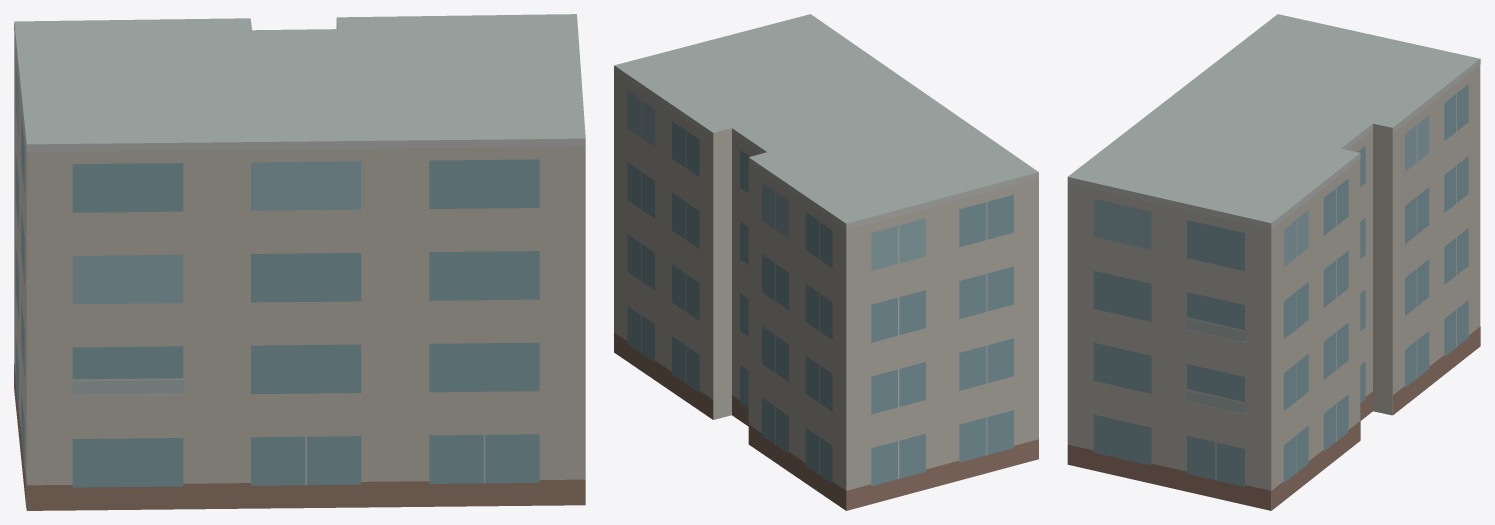
Rendered from survey-upis-32657760.glb.
The picture shows the model from 3 angles, left to right: view 1: azimuth 30°, elevation 25°; view 2: azimuth 150°, elevation 25°; view 3: azimuth 270°, elevation 25°; orthographic projection. The views are drawn at different scales.
Visible parts, largest first — view 1: survey-upis-32657760.tmp; view 2: survey-upis-32657760.tmp; view 3: survey-upis-32657760.tmp.
Boxes of the visible parts, x1,y1,x2,y2 form: survey-upis-32657760.tmp: (14,14,585,510); survey-upis-32657760.tmp: (614,14,1038,510); survey-upis-32657760.tmp: (1067,14,1480,510).
Bounding box in the file's own units: 18.1 × 11.6 × 15.1.
